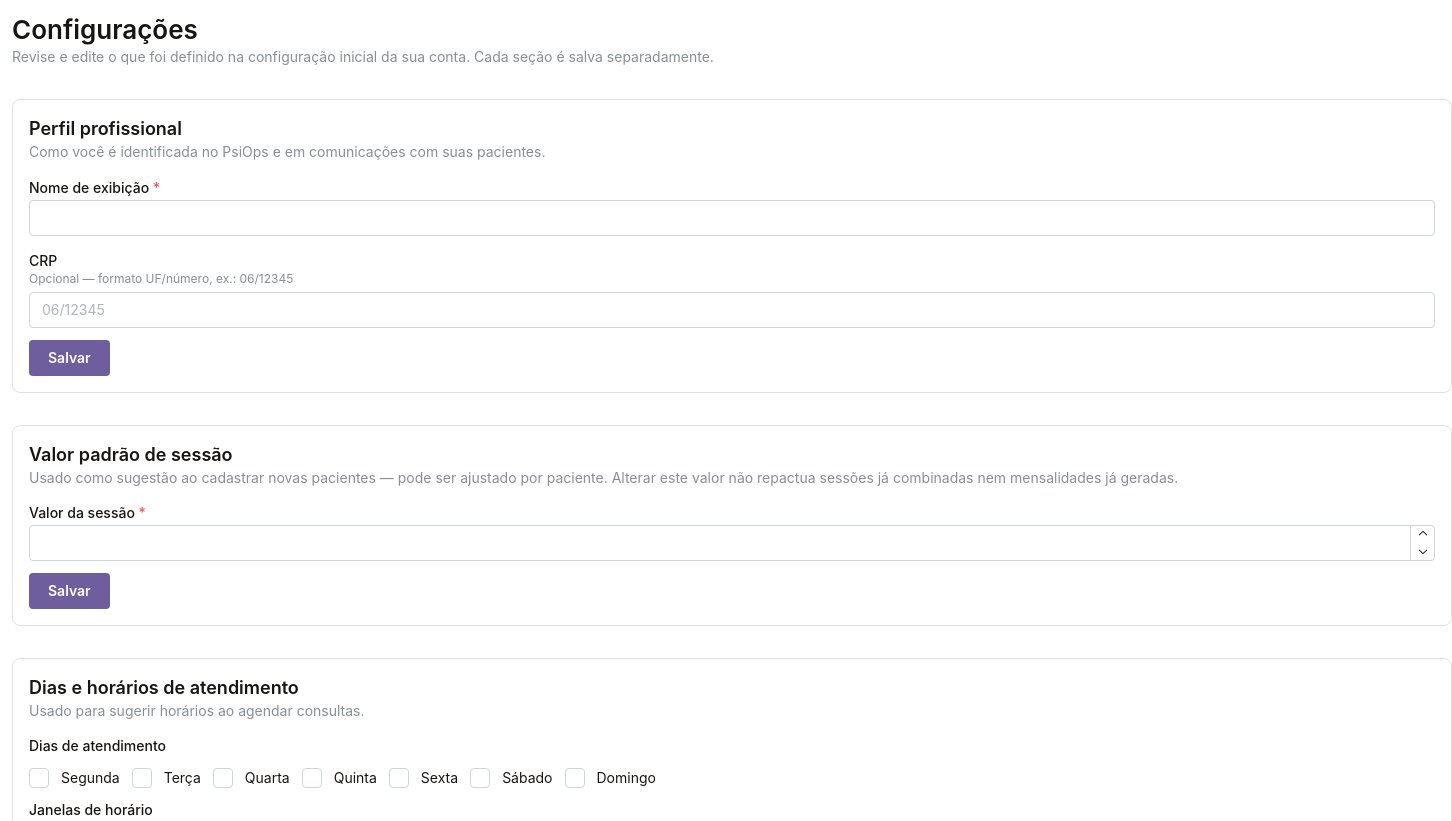
Test: SettingsPage › seção financeira: valida valor obrigatório maior que zero
Expected: the element with test id "settings-section-valor-sessao" is shown, x1=12 y1=425 x2=1451 y2=626
Step 1. Click the submit button → (69, 591), box x1=29 y1=573 x2=110 y2=609
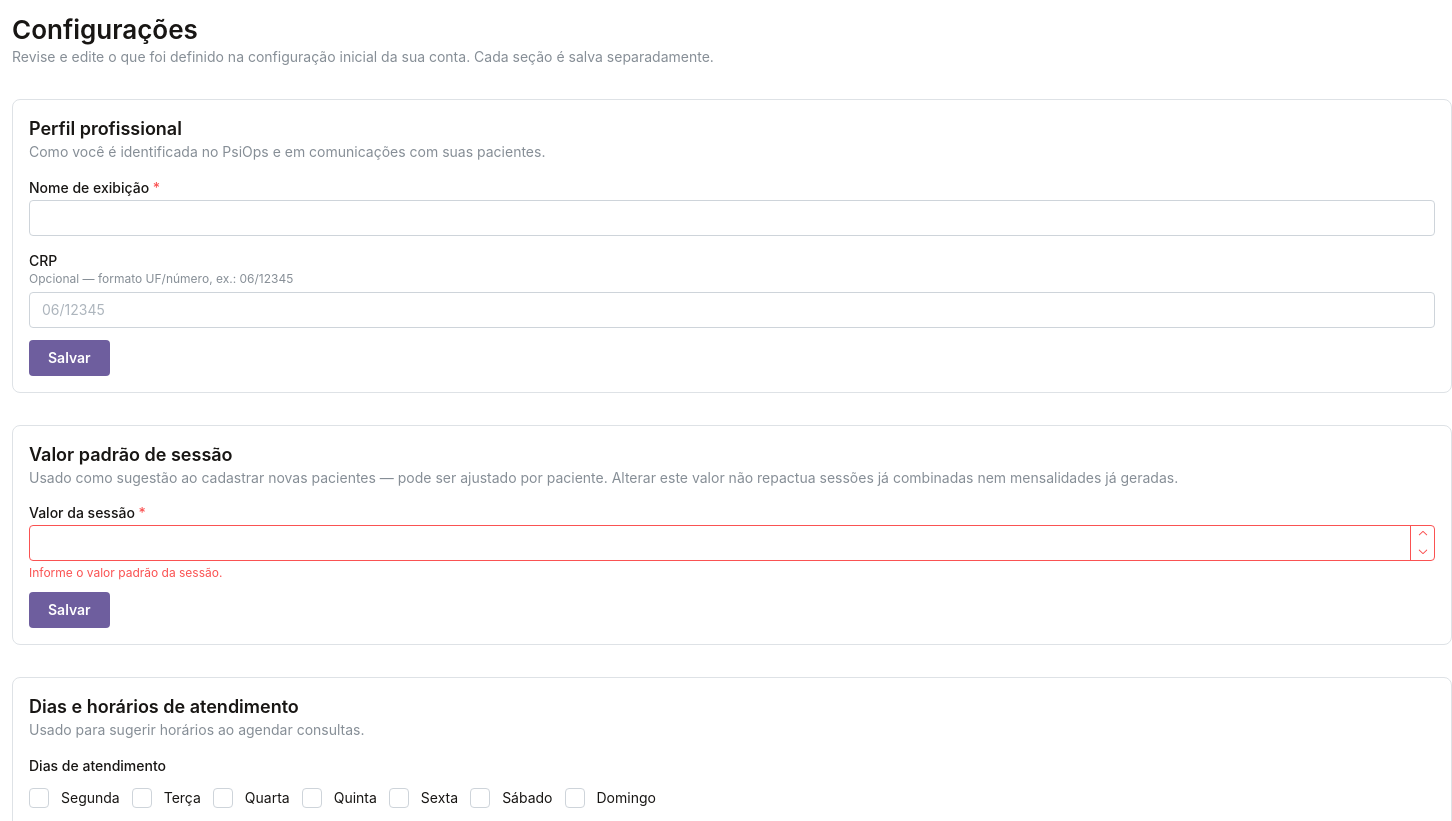
Result: the text "Informe o valor padrão da sessão." is shown at x1=29 y1=565 x2=222 y2=580
